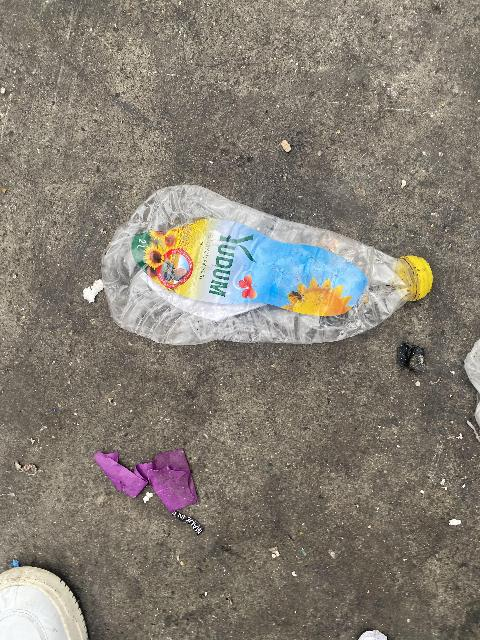Kagit: (152, 448, 200, 506), (97, 460, 144, 498)
Plastik: (102, 183, 433, 346), (402, 252, 433, 297)
